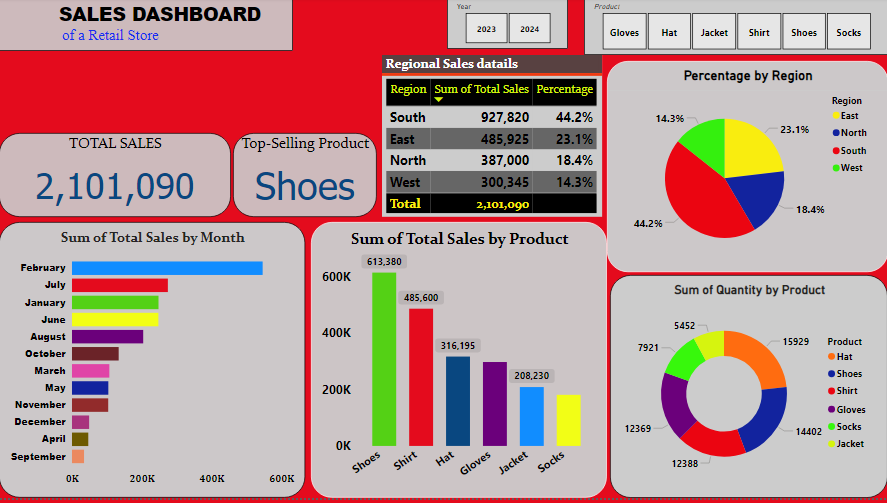

The dashboard page shown, as its layout file describes it:
{"tool":"powerbi","page":{"name":"Page 1","canvas":[1280,720],"ordinal":0},"visuals":[{"type":"textbox","box":[0,0,423.4,76.3],"z":0},{"type":"card","title":"TOTAL SALES","fields":{"Values":["Sum(SalesData.Total Sales)"]},"box":[0,194.4,334.1,121],"z":1000},{"type":"card","title":"Top-Selling Product","fields":{"Values":["SalesData.Top-Selling Product"]},"box":[337,194.4,207.4,121],"z":2000},{"type":"columnChart","fields":{"Category":["SalesData.Product"],"Y":["Sum(SalesData.Total Sales)"]},"box":[449.3,322.6,426.2,397.4],"z":3000},{"type":"tableEx","title":"Regional Sales datails","fields":{"Values":["SalesData.Region","Sum(SalesData.Total Sales)","SalesData.Percentage"]},"box":[551.5,82.1,316.8,233.3],"z":4000},{"type":"pieChart","fields":{"Y":["SalesData.Percentage"],"Series":["SalesData.Region"]},"box":[875.3,90.7,404.6,303.8],"z":5000},{"type":"clusteredBarChart","fields":{"Category":["SalesData.OrderDate.Variation.Date Hierarchy.Month"],"Y":["Sum(SalesData.Total Sales)"]},"box":[0,322.6,440.6,397.4],"z":6000},{"type":"slicer","fields":{"Values":["SalesData.OrderDate.Variation.Date Hierarchy.Year"]},"box":[645.1,0,174.2,73.4],"z":7000},{"type":"slicer","fields":{"Values":["SalesData.Product"]},"box":[842.4,0,437.8,82.1],"z":8000},{"type":"donutChart","fields":{"Category":["SalesData.Product"],"Y":["Sum(SalesData.Quantity)"]},"box":[879.8,398.9,400.3,321.1],"z":9000}]}

Visuals, with their boxes in screenshot pixels (x1, y1, x2, y2), scaled from the page's 1280x720 canvas onto the 887x503 screenshot:
textbox: BBox(0, 0, 293, 53)
"TOTAL SALES" card: BBox(0, 136, 232, 220)
"Top-Selling Product" card: BBox(234, 136, 377, 220)
columnChart - SalesData.Product x Sum(SalesData.Total Sales): BBox(311, 225, 607, 502)
"Regional Sales datails" tableEx: BBox(382, 57, 602, 220)
pieChart - SalesData.Percentage x SalesData.Region: BBox(607, 63, 886, 276)
clusteredBarChart - SalesData.OrderDate.Variation.Date Hierarchy.Month x Sum(SalesData.Total Sales): BBox(0, 225, 305, 502)
slicer - SalesData.OrderDate.Variation.Date Hierarchy.Year: BBox(447, 0, 568, 51)
slicer - SalesData.Product: BBox(584, 0, 886, 57)
donutChart - SalesData.Product x Sum(SalesData.Quantity): BBox(610, 279, 886, 502)
